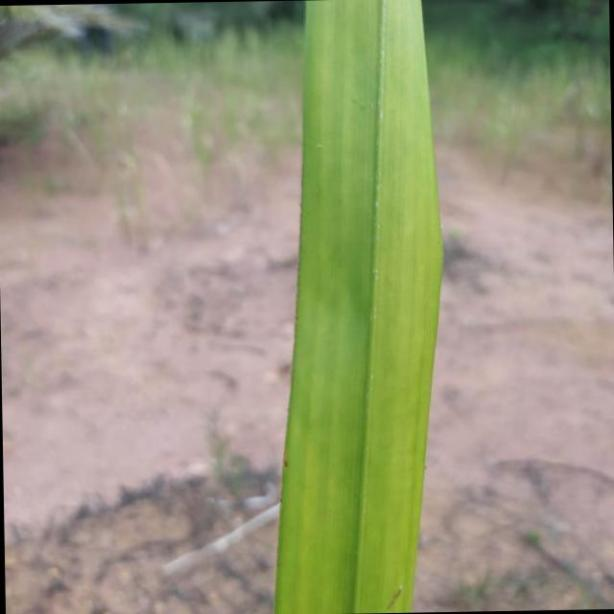nitrogen: (278, 0, 446, 608)
